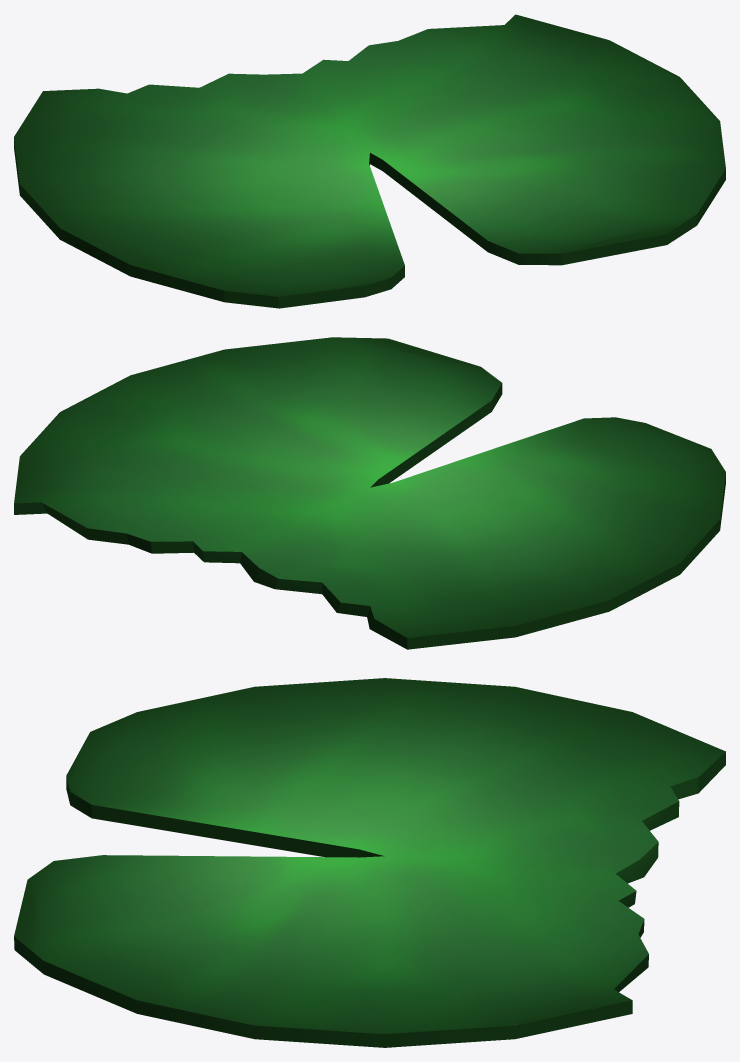
Rendered from Nenufar2.fbx.
3 renders of one model, top to bottom at view 1: azimuth 30°, elevation 25°; view 2: azimuth 150°, elevation 25°; view 3: azimuth 270°, elevation 25°, orthographic. The views are drawn at different scales.
Parts seen in each view (by area): view 1: Nenufar2; view 2: Nenufar2; view 3: Nenufar2.
Boxes of the visible parts, x1,y1,x2,y2 form: Nenufar2: (14,14,725,308); Nenufar2: (14,337,725,649); Nenufar2: (14,678,725,1047).
Bounding box in the file's own units: 50 × 1.16 × 42.22.
1 material, 1 textured.
